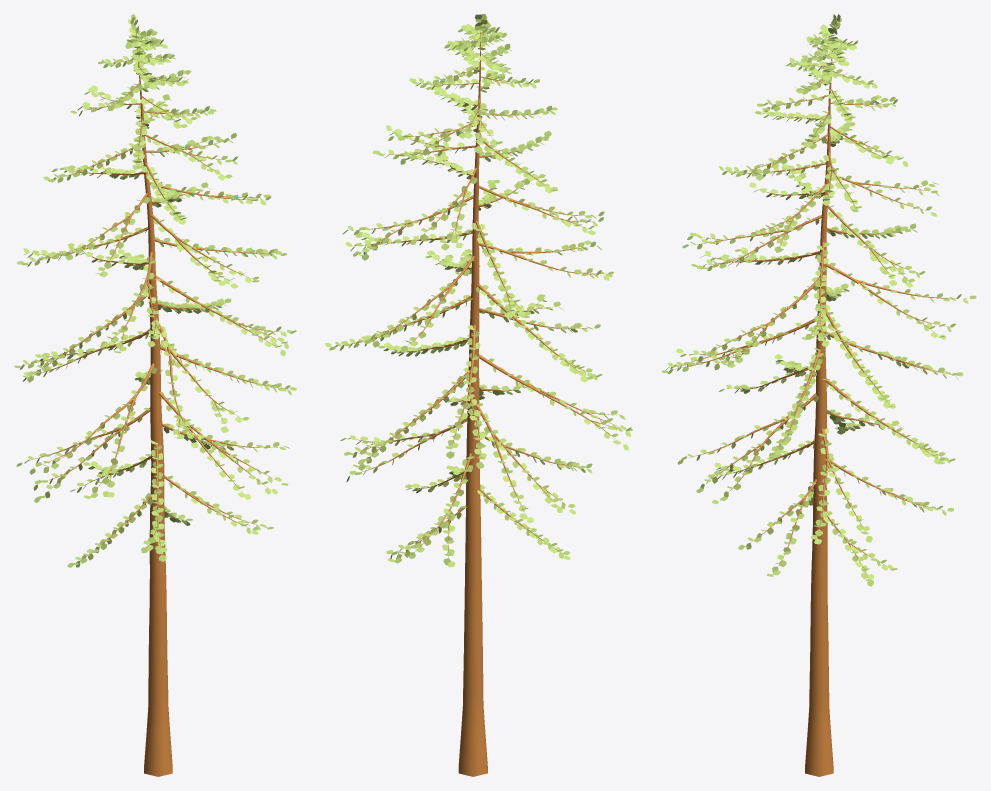
The model's file is BigTree.fbx.
The picture shows the model from 3 angles, left to right: view 1: azimuth 30°, elevation 25°; view 2: azimuth 150°, elevation 25°; view 3: azimuth 270°, elevation 25°; orthographic projection. The views are drawn at different scales.
Parts seen in each view (by area): view 1: leaves, tree; view 2: leaves, tree; view 3: leaves, tree.
Boxes of the visible parts, bbox=[...] form: leaves: bbox=[14, 14, 296, 567]; tree: bbox=[28, 28, 284, 776]; leaves: bbox=[325, 14, 632, 567]; tree: bbox=[338, 25, 620, 776]; leaves: bbox=[661, 14, 976, 586]; tree: bbox=[673, 34, 967, 776].
Bounding box in the file's own units: 1753 × 4655 × 1778.
